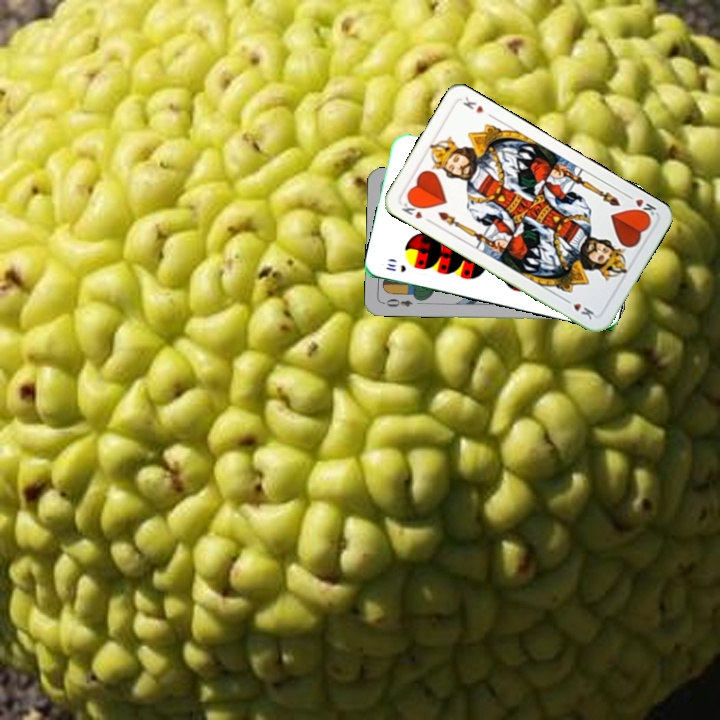EO: (379, 294, 415, 310)
HK: (622, 190, 659, 222), (398, 196, 434, 226)
S10: (382, 259, 409, 275)
